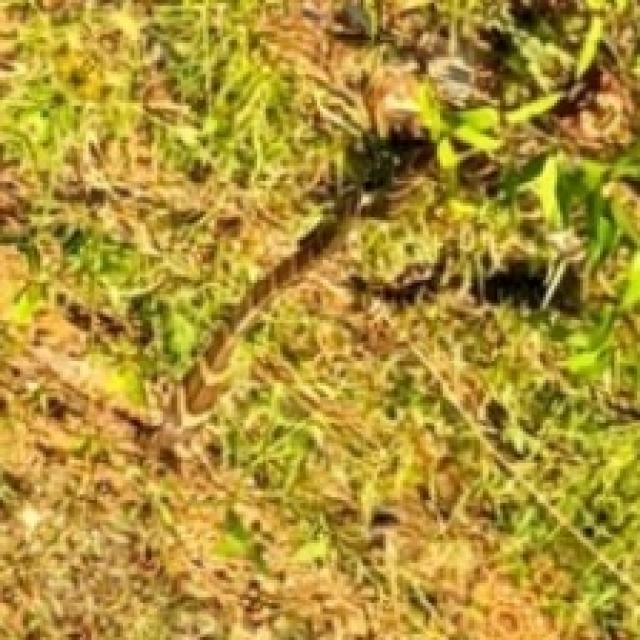king cobra: (137, 140, 431, 451)
